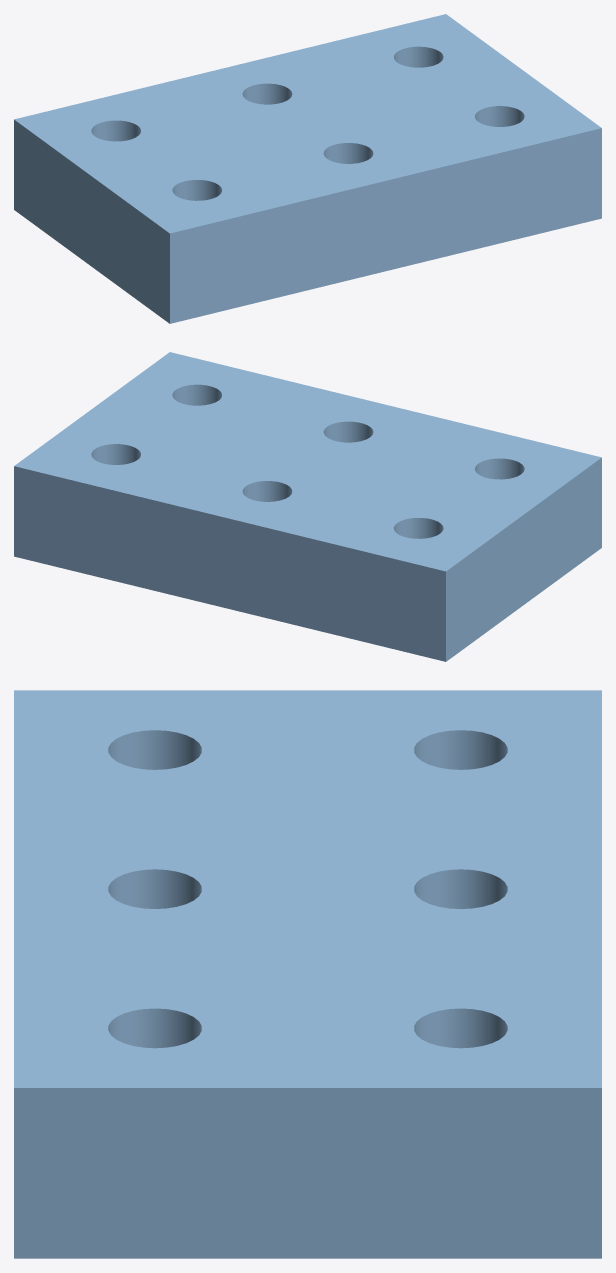
The model's file is design.glb.
3 renders of one model, top to bottom at view 1: azimuth 30°, elevation 25°; view 2: azimuth 150°, elevation 25°; view 3: azimuth 270°, elevation 25°, orthographic. The views are drawn at different scales.
Visible parts, largest first — view 1: SOLID; view 2: SOLID; view 3: SOLID.
Boxes of the visible parts, x1,y1,x2,y2 form: SOLID: [14, 14, 601, 323]; SOLID: [14, 352, 601, 661]; SOLID: [14, 690, 601, 1258].
Bounding box in the file's own units: 80 × 16 × 50.
